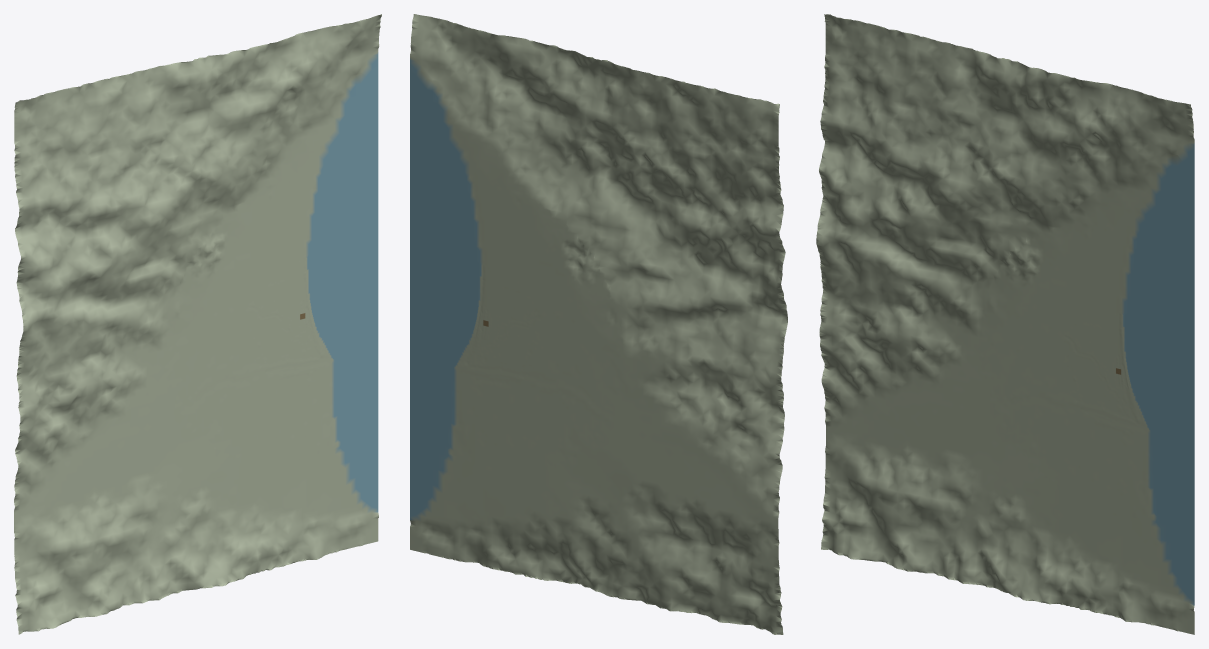
Rendered from terrain.glb.
3 views of the same model, side by side, from view 1: azimuth 30°, elevation 25°; view 2: azimuth 150°, elevation 25°; view 3: azimuth 330°, elevation 25° (orthographic).
Parts seen in each view (by area): view 1: terrain; view 2: terrain; view 3: terrain.
Boxes of the visible parts, left/top/right/bottom form: terrain: left=14, top=14, right=381, bottom=634; terrain: left=410, top=14, right=787, bottom=634; terrain: left=816, top=14, right=1194, bottom=634.
Bounding box in the file's own units: 27296 × 37849 × 1414.
